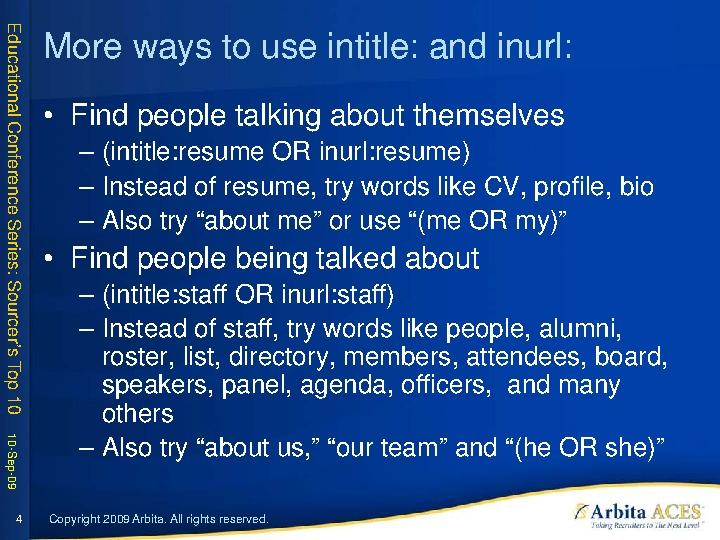paragraph: (37, 94, 689, 480)
title: (40, 21, 586, 76)
